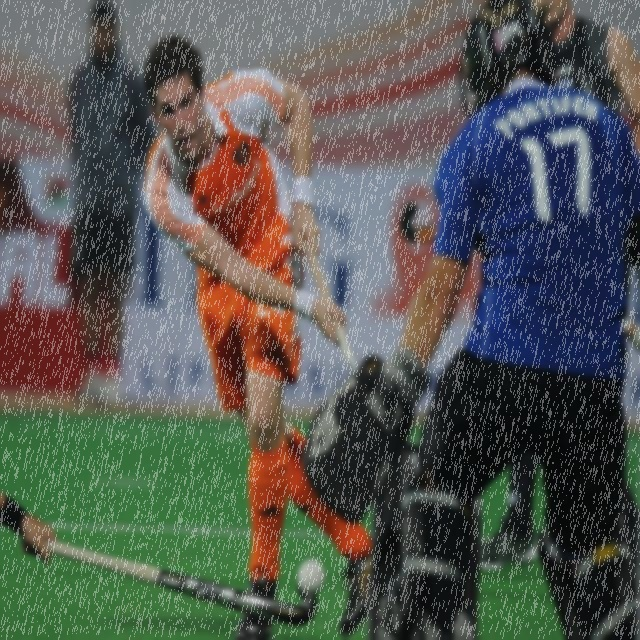pessoa: (300, 0, 639, 639), (143, 32, 380, 640), (393, 0, 640, 579), (0, 486, 322, 640), (61, 0, 154, 412)
